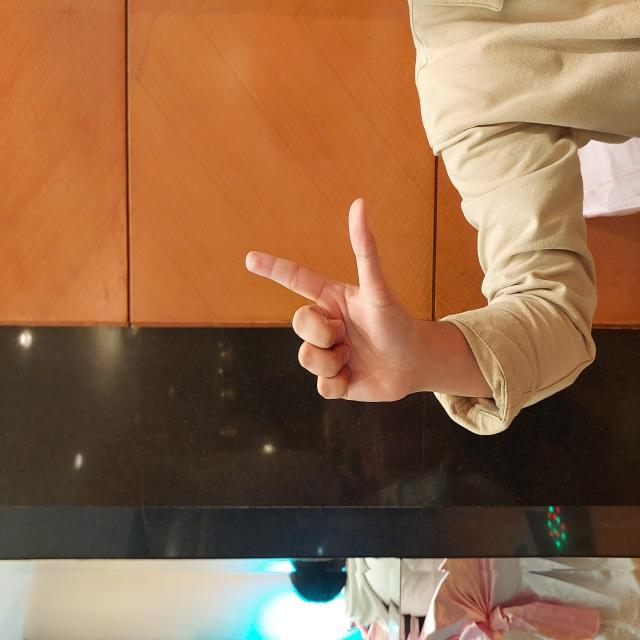L: (236, 244, 444, 413)
